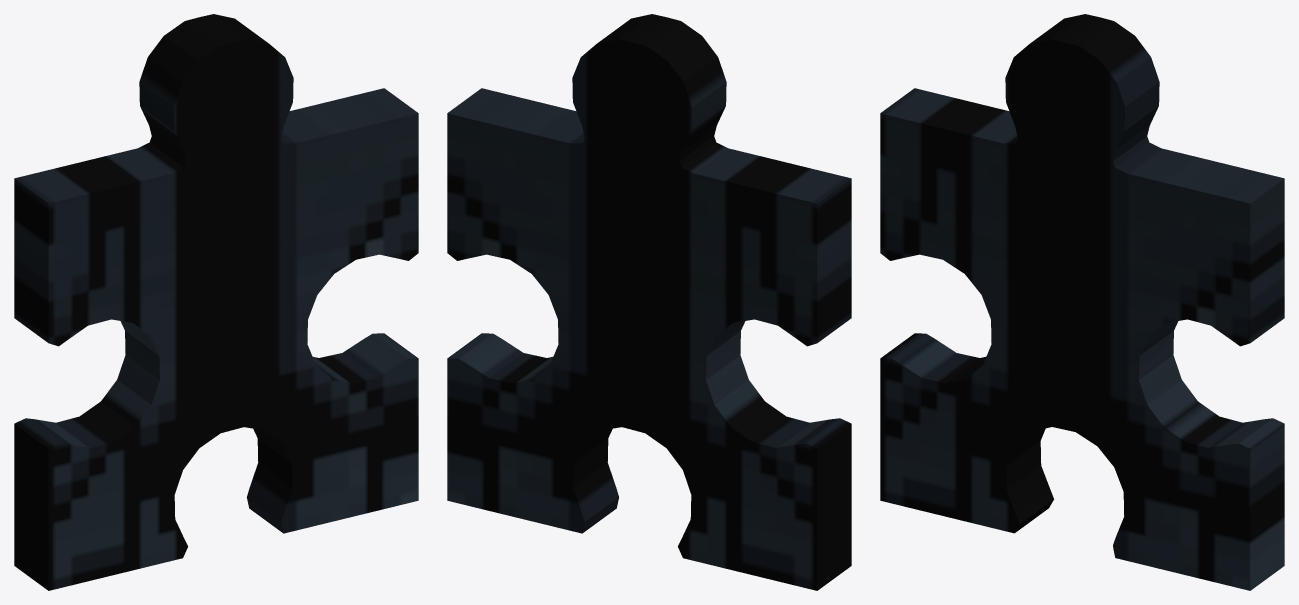
File: Pieces_7_003.fbx
3 renders of one model, left to right at view 1: azimuth 30°, elevation 25°; view 2: azimuth 150°, elevation 25°; view 3: azimuth 330°, elevation 25°, orthographic.
Parts seen in each view (by area): view 1: Pieces 7.003; view 2: Pieces 7.003; view 3: Pieces 7.003.
Boxes of the visible parts, box(x1,y1,x2,y2) form: Pieces 7.003: box(14, 14, 418, 590); Pieces 7.003: box(447, 14, 851, 590); Pieces 7.003: box(880, 14, 1284, 590).
Size of the model in its own units: 80.52 by 105 by 12.98.
